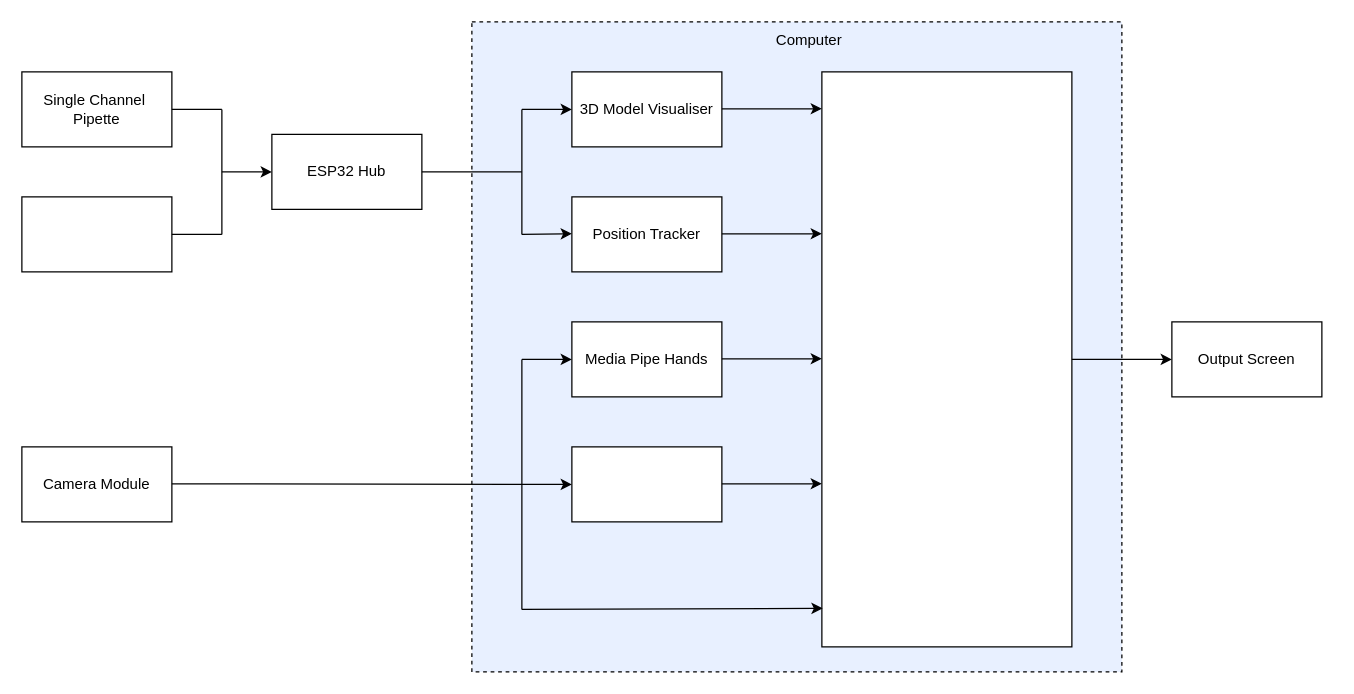
The diagram is 1354 pixels wide and 694 high, and some of its shapes have lost their labels. Each missing label, with the box of its shape:
Pipette Controller: (21, 196, 172, 272)
Video Annotator and Analysis: (821, 71, 1072, 647)
YOLO11 Object Detector: (571, 446, 722, 522)
